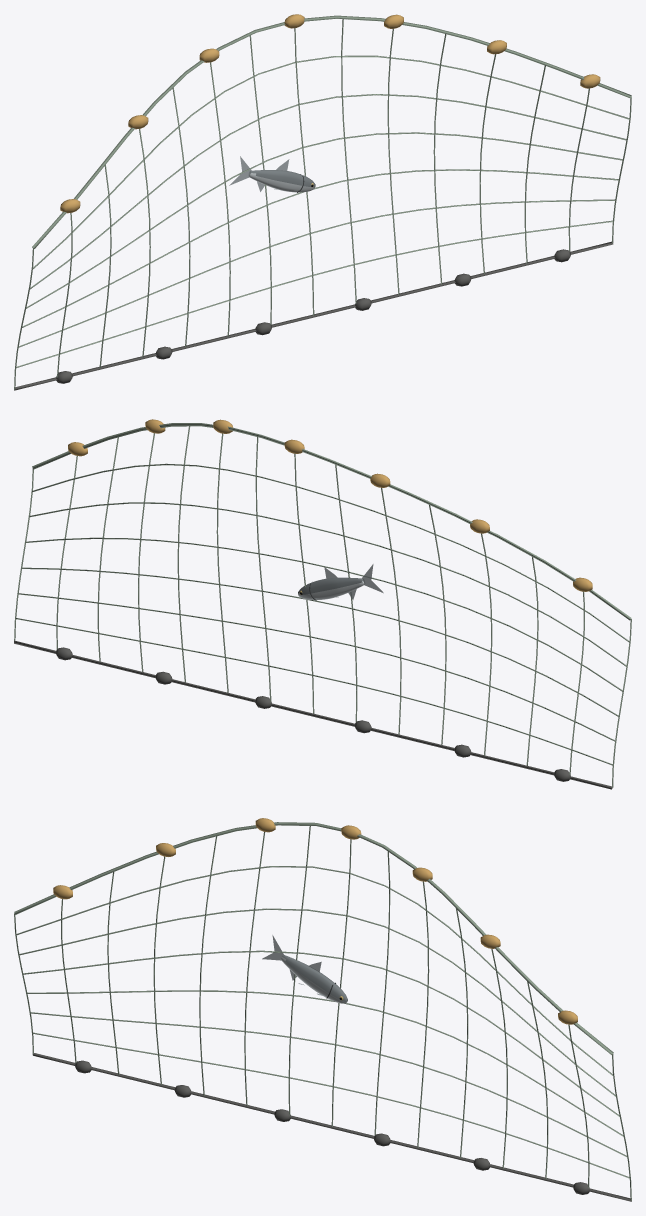
Rendered from lake-ghostnet-shelf-1.glb.
3 views of the same model, one above another, from view 1: azimuth 30°, elevation 25°; view 2: azimuth 150°, elevation 25°; view 3: azimuth 330°, elevation 25° (orthographic).
Visible parts, largest first — view 1: lake-ghostnet-shelf-1; view 2: lake-ghostnet-shelf-1; view 3: lake-ghostnet-shelf-1.
Boxes of the visible parts, left/top/right/bottom form: lake-ghostnet-shelf-1: left=14, top=14, right=631, bottom=390; lake-ghostnet-shelf-1: left=14, top=419, right=631, bottom=789; lake-ghostnet-shelf-1: left=14, top=818, right=631, bottom=1201.
Size of the model in its own units: 2.01 by 0.9379 by 0.2667.
